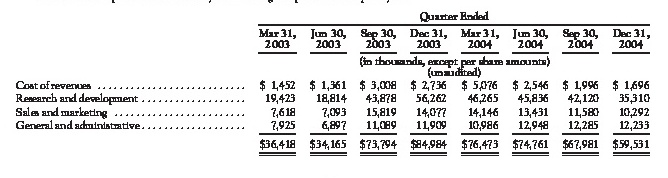table: (0, 0, 668, 178)
